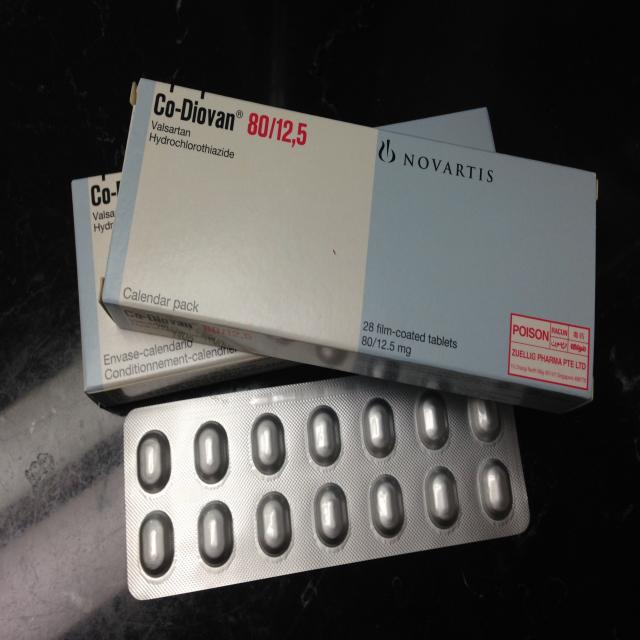Pill: (304, 396, 345, 472), (360, 392, 402, 466), (249, 407, 288, 486), (192, 412, 232, 489), (136, 422, 174, 501), (465, 383, 509, 451), (424, 459, 462, 536), (314, 478, 351, 556), (138, 506, 176, 580), (478, 454, 516, 528), (198, 498, 233, 578), (255, 491, 295, 561), (415, 389, 455, 455), (371, 472, 407, 544)
